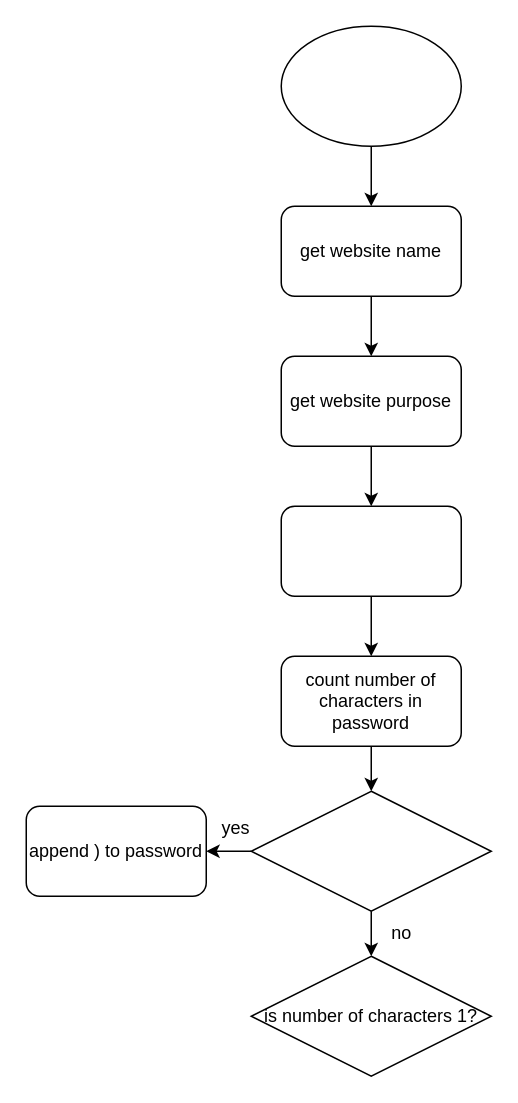
This 518x1103 diagram has some shape labels left out. The centre of each missing label's shape, as x and y in pixels:
"combine name and purpose" belongs at (370,550).
"is number of characters ≥ 10?" belongs at (370,850).
"start" belongs at (370,85).
